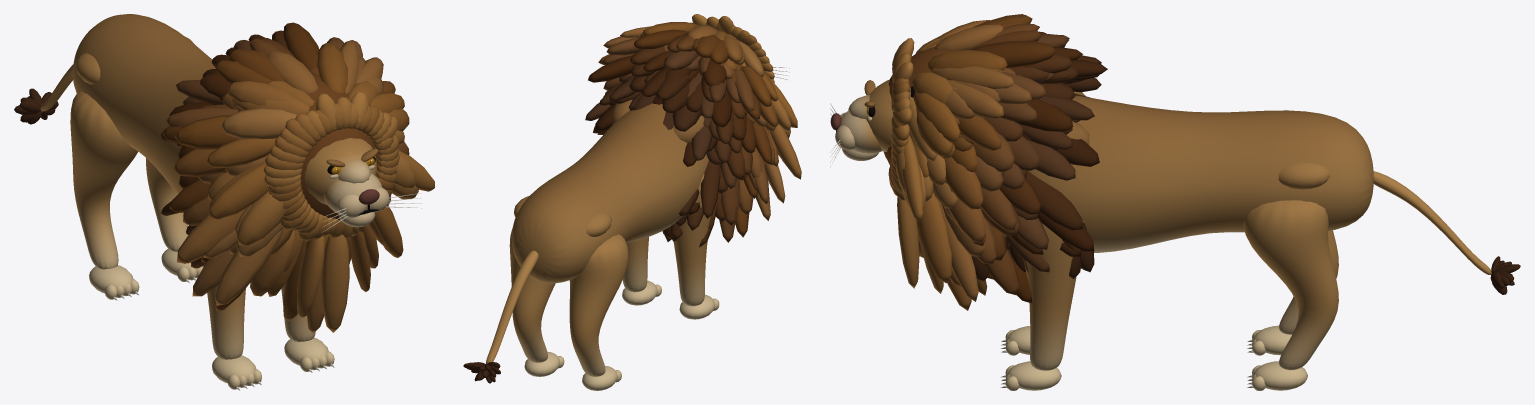
Rendered from lejon.glb.
3 views of the same model, side by side, from view 1: azimuth 30°, elevation 25°; view 2: azimuth 150°, elevation 25°; view 3: azimuth 270°, elevation 25° (orthographic). The views are drawn at different scales.
Visible parts, largest first — view 1: Kropp, BenBH, BenFH, BenBV, BenFV, Svans; view 2: Kropp, BenBH, BenBV, BenFH, Svans, BenFV; view 3: Kropp, BenBV, BenFV, Svans, BenBH, BenFH.
Part boxes in pixels (x1,y1,x2,y2): Kropp: [72, 14, 434, 333]; BenBH: [70, 91, 139, 300]; BenFH: [203, 265, 261, 390]; BenBV: [146, 158, 203, 282]; BenFV: [281, 283, 334, 372]; Svans: [14, 64, 73, 124]; Kropp: [511, 14, 801, 283]; BenBH: [569, 234, 628, 390]; BenBV: [509, 229, 564, 376]; BenFH: [673, 174, 719, 319]; Svans: [463, 250, 538, 383]; BenFV: [622, 237, 661, 305]; Kropp: [830, 14, 1373, 310]; BenBV: [1243, 200, 1338, 390]; BenFV: [1000, 223, 1076, 390]; Svans: [1373, 171, 1520, 294]; BenBH: [1247, 230, 1338, 355]; BenFH: [1000, 323, 1030, 355].
Bounding box in the file's own units: 1.05 × 1.42 × 2.64.
